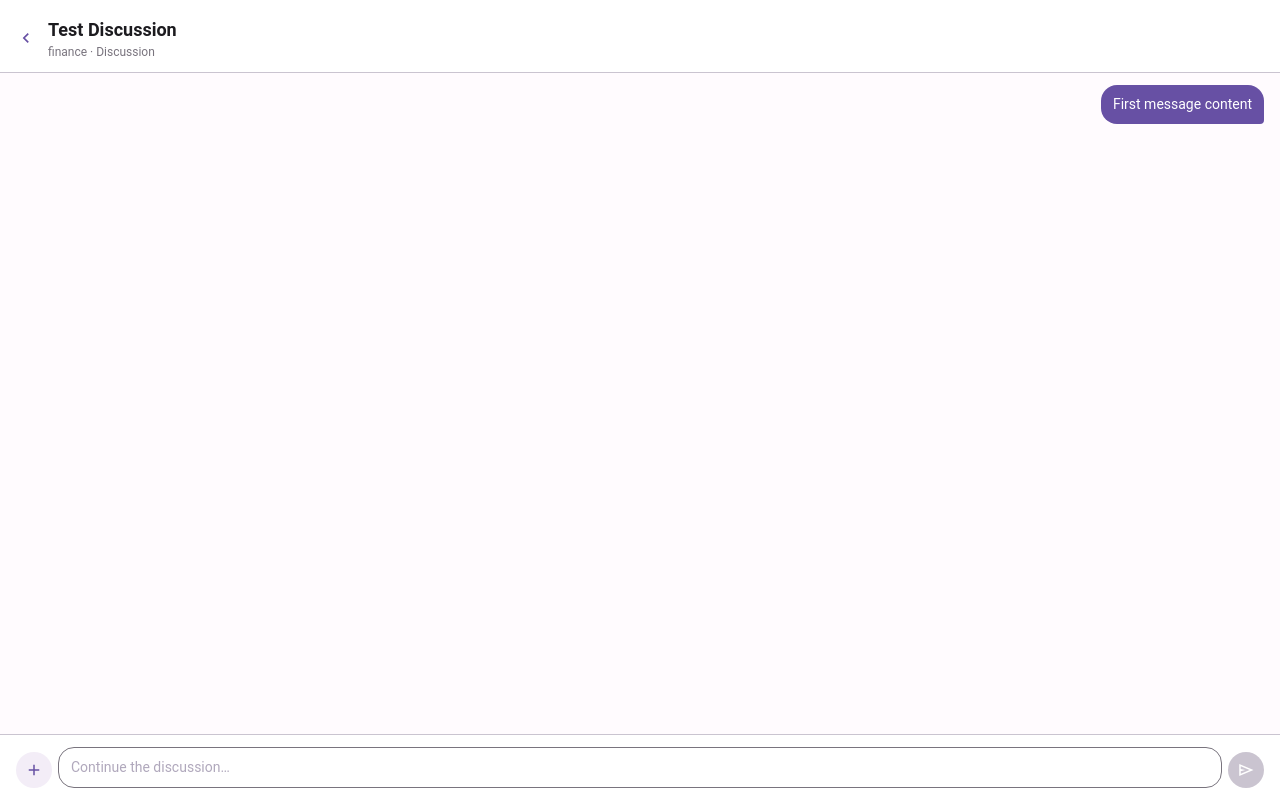
Test: DiscussionThread › VP2: tapping the title toggles the description dropdown open and closed
This screenshot has width=1280, height=800.
Note: First tap — dropdown div should appear
Click the button "Test Discussion".
click(112, 30)  # box [48,16,1264,44]
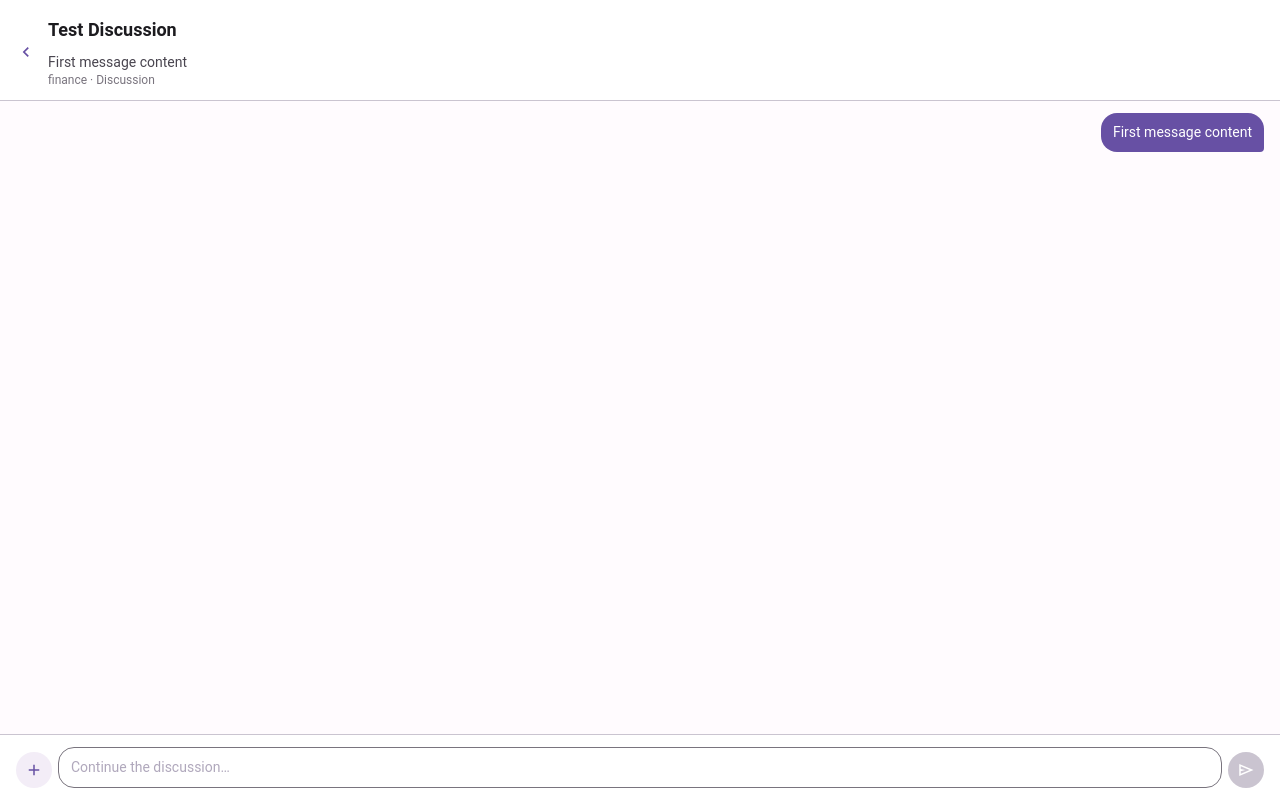
Check: the text with class "line-clamp-4" is shown, box [48,54,187,70]
Note: Second tap — dropdown div should disappear
Click the button "Test Discussion".
click(112, 30)  # box [48,16,1264,44]
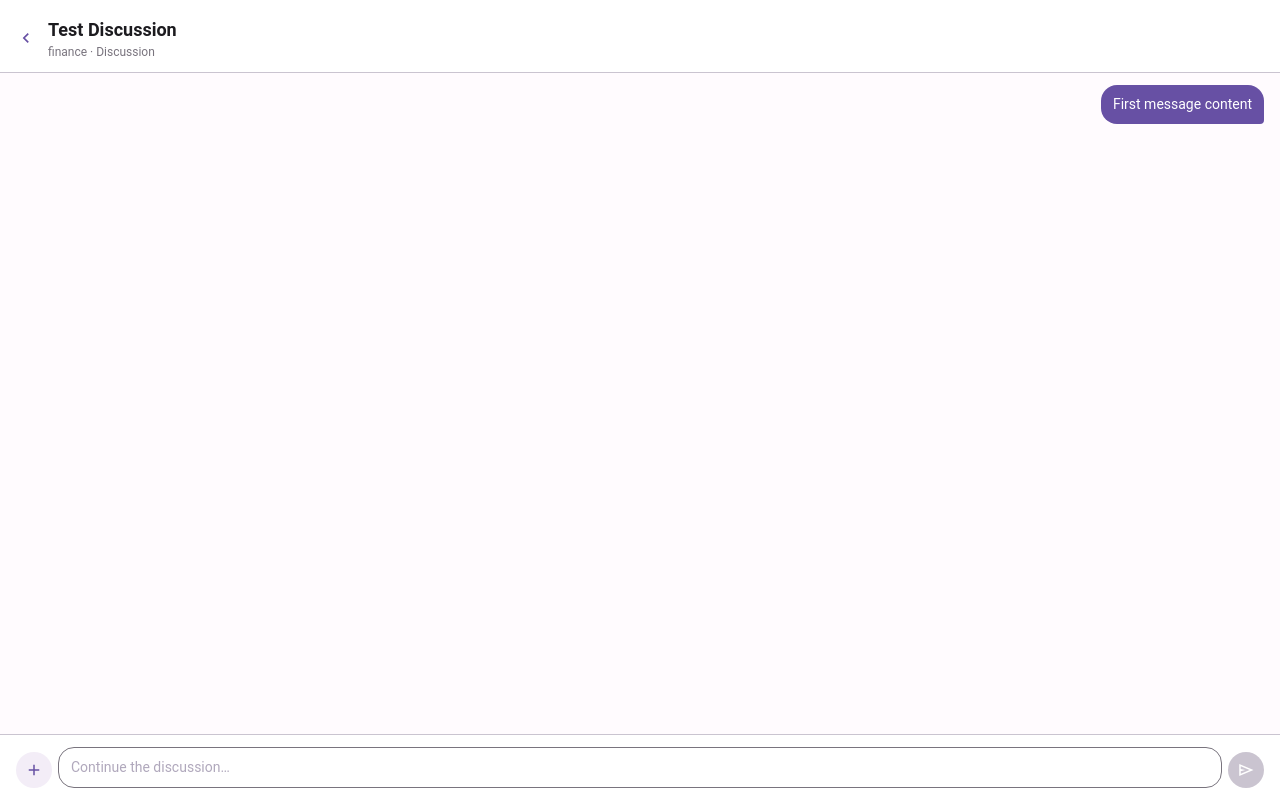
Check: the text with class "line-clamp-4" is gone
